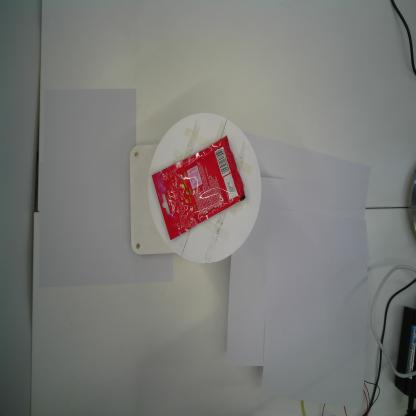Candy: (151, 134, 246, 242)
